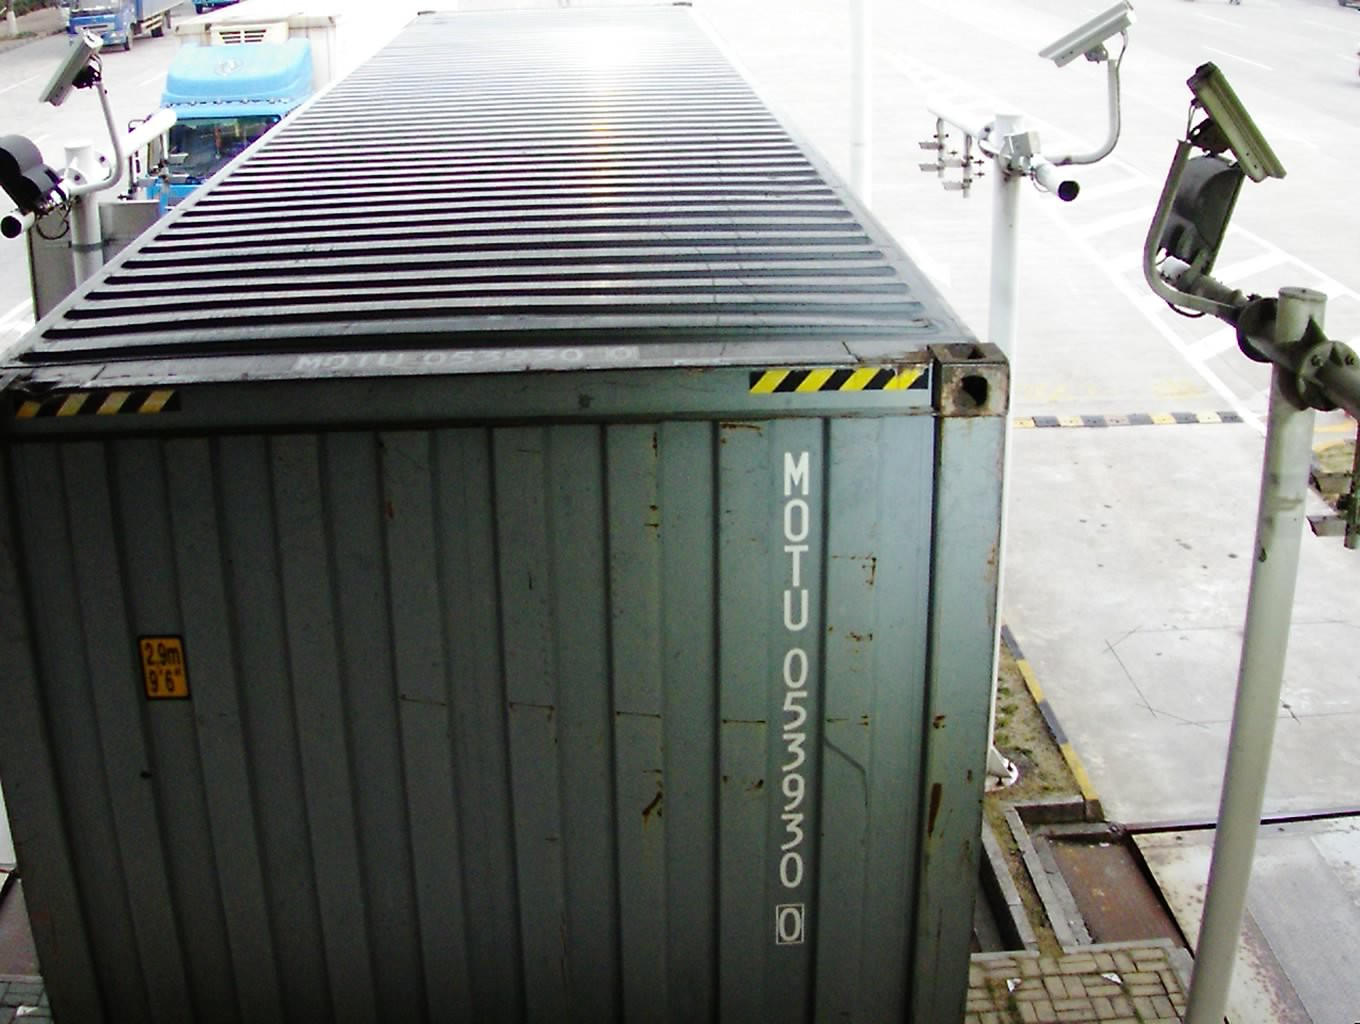words: (761, 442, 822, 954)
